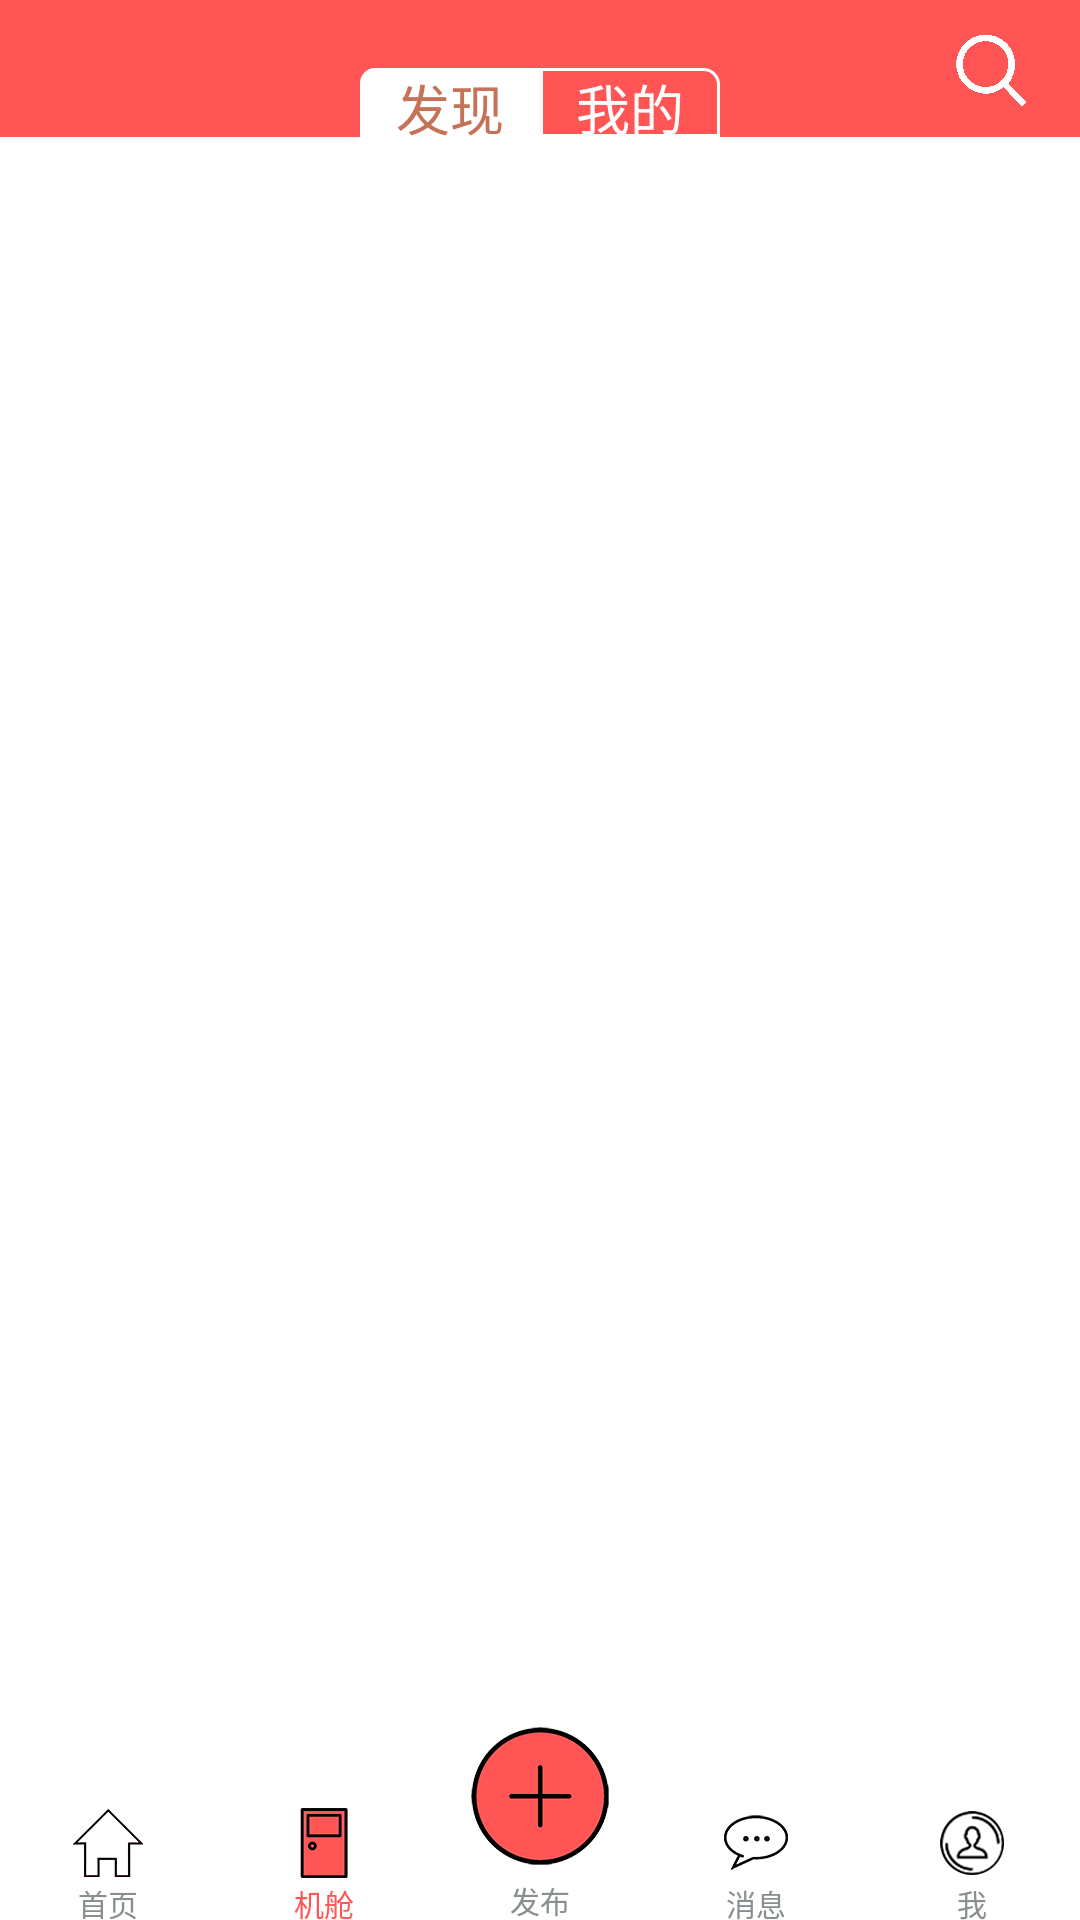

Where to tap for icons on this 1080 × 1920 app screen, as [x,y]:
add: [540,1796]
door: [324,1843]
person: [972,1843]
search: [991,70]
